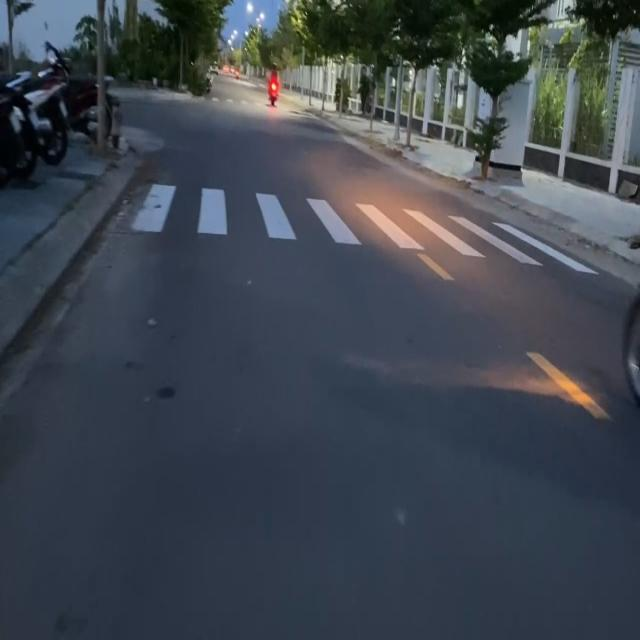walk-crossing: (128, 170, 586, 262)
